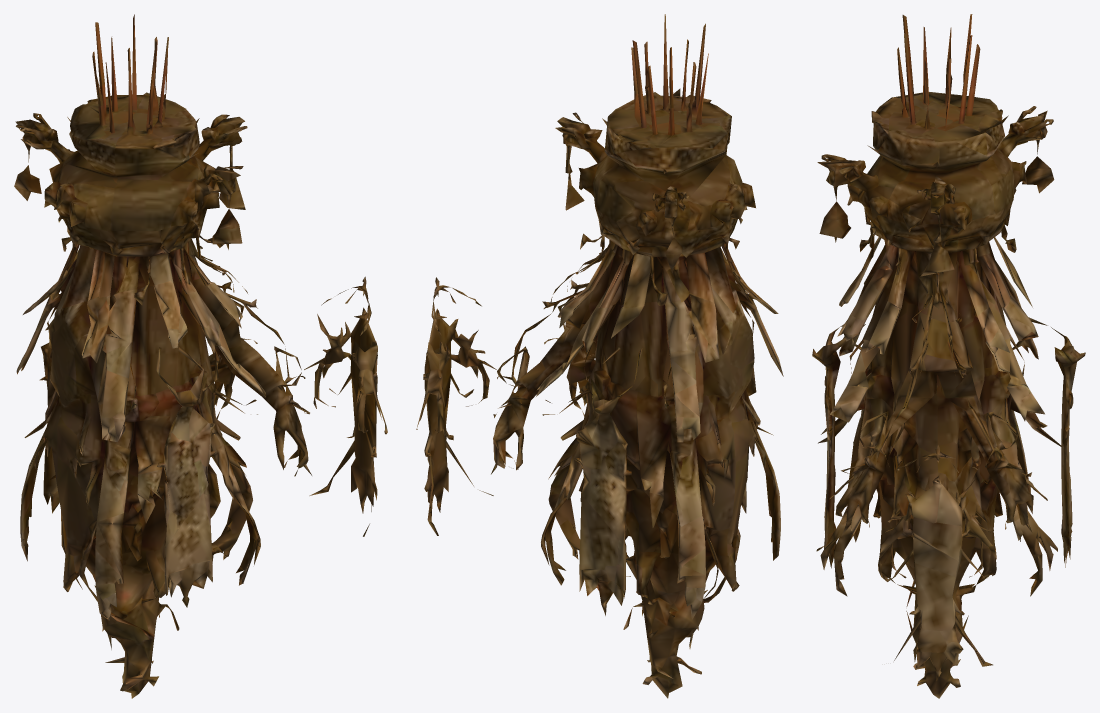
File: mob_xianghuo.glb
3 views of the same model, side by side, from view 1: azimuth 30°, elevation 25°; view 2: azimuth 150°, elevation 25°; view 3: azimuth 270°, elevation 25° (orthographic).
Parts seen in each view (by area): view 1: tripo_node_cf02cff9-86a2-4073-a57c-b16195a6f2cc; view 2: tripo_node_cf02cff9-86a2-4073-a57c-b16195a6f2cc; view 3: tripo_node_cf02cff9-86a2-4073-a57c-b16195a6f2cc.
Part boxes in pixels (x1,y1,x2,y2): tripo_node_cf02cff9-86a2-4073-a57c-b16195a6f2cc: (14,14,387,698); tripo_node_cf02cff9-86a2-4073-a57c-b16195a6f2cc: (416,14,783,698); tripo_node_cf02cff9-86a2-4073-a57c-b16195a6f2cc: (812,14,1085,698).
Size of the model in its own units: 0.4833 by 0.9787 by 0.3594.
1 material, 1 textured.
